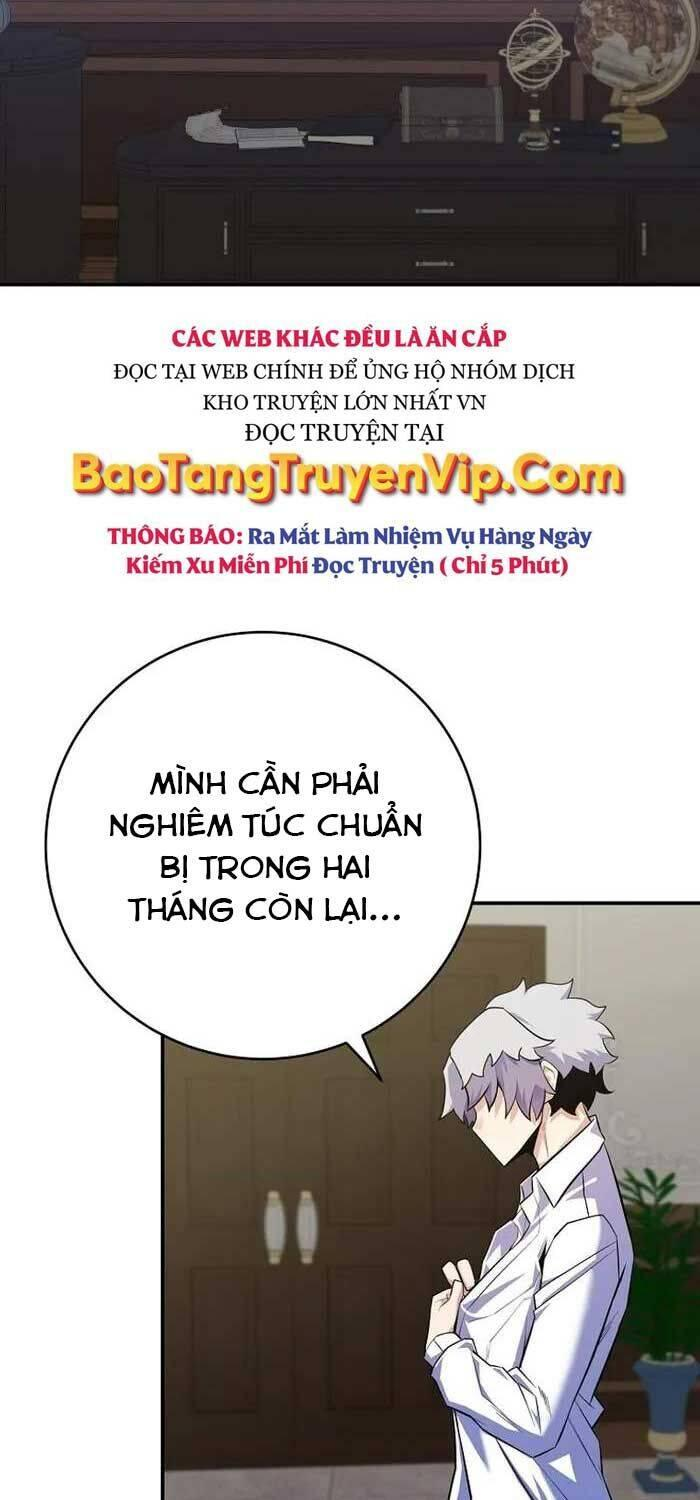quangcao: (70, 314, 628, 588)
